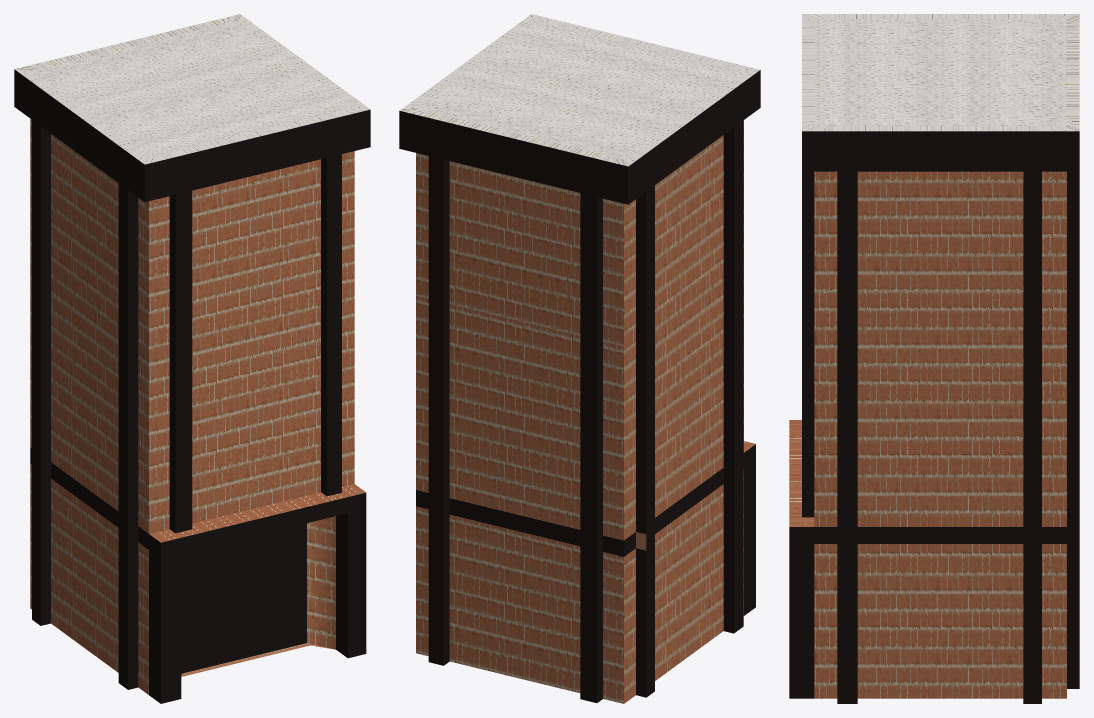
File: bill.obj
3 views of the same model, side by side, from view 1: azimuth 30°, elevation 25°; view 2: azimuth 150°, elevation 25°; view 3: azimuth 270°, elevation 25° (orthographic). The views are drawn at different scales.
Visible parts, largest first — view 1: pCube1; view 2: pCube1; view 3: pCube1.
Part boxes in pixels (x1,y1,x2,y2): pCube1: (14,14,370,703); pCube1: (399,14,760,703); pCube1: (789,14,1079,703).
Bounding box in the file's own units: 2.2 × 5 × 2.3.
3 materials, 2 textured.
